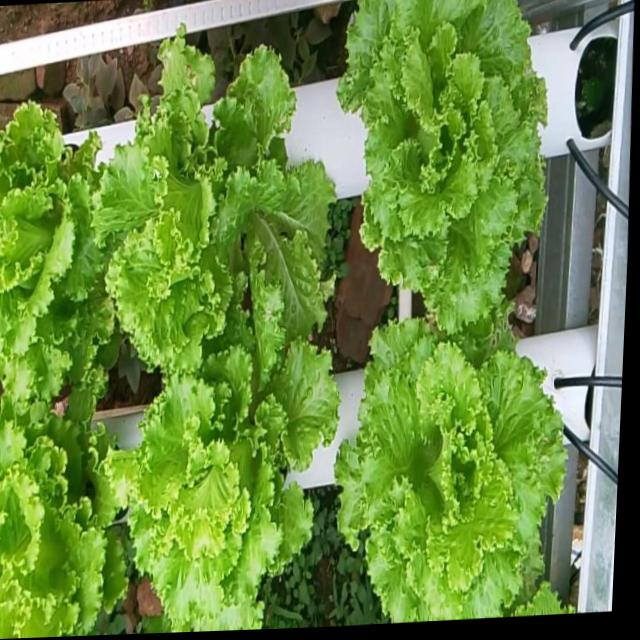Mature: (83, 24, 326, 362), (323, 311, 557, 622), (104, 311, 328, 632), (328, 0, 536, 328), (0, 85, 100, 387), (0, 392, 114, 639)
